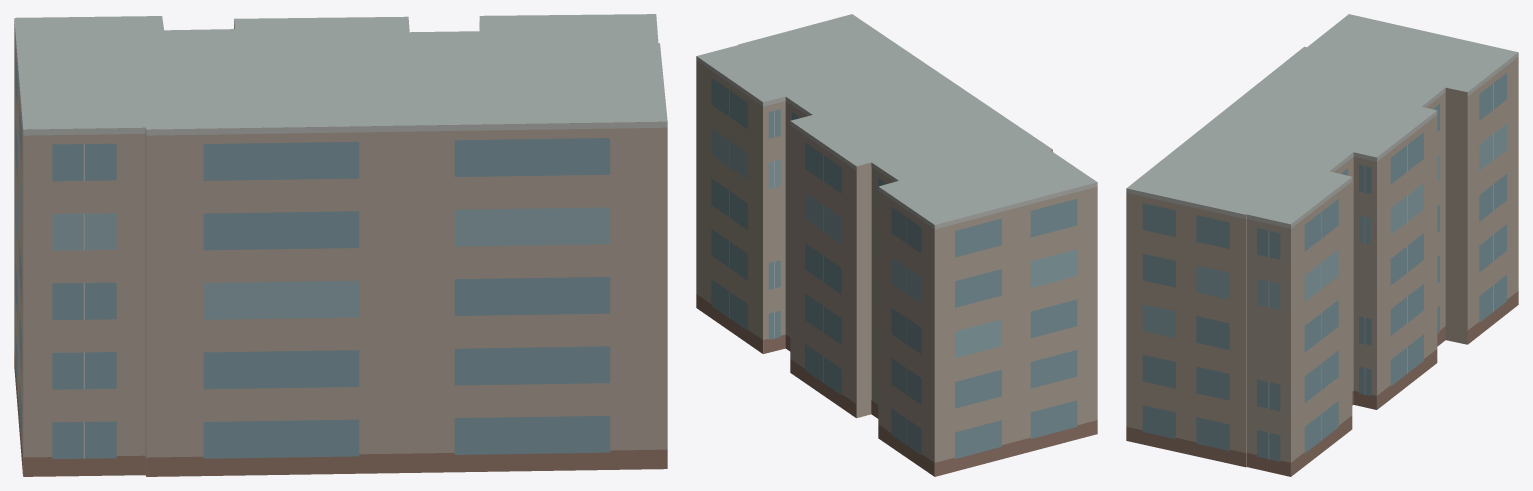
The model's file is survey-upis-32671170.glb.
The picture shows the model from 3 angles, left to right: view 1: azimuth 30°, elevation 25°; view 2: azimuth 150°, elevation 25°; view 3: azimuth 270°, elevation 25°; orthographic projection. The views are drawn at different scales.
Visible parts, largest first — view 1: survey-upis-32671170.tmp; view 2: survey-upis-32671170.tmp; view 3: survey-upis-32671170.tmp.
Part boxes in pixels (bbox=[...]): survey-upis-32671170.tmp: bbox=[14, 14, 667, 476]; survey-upis-32671170.tmp: bbox=[696, 14, 1097, 476]; survey-upis-32671170.tmp: bbox=[1126, 14, 1518, 476].
Size of the model in its own units: 25.03 by 14 by 19.71.
